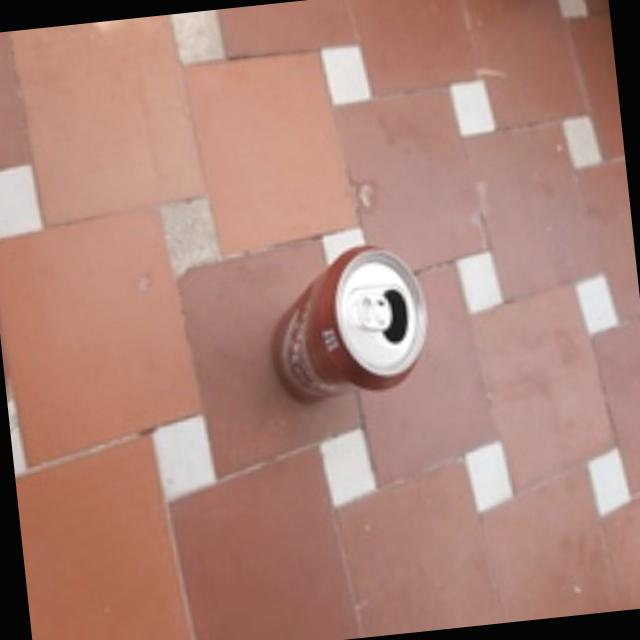Metal: (264, 235, 436, 407)
